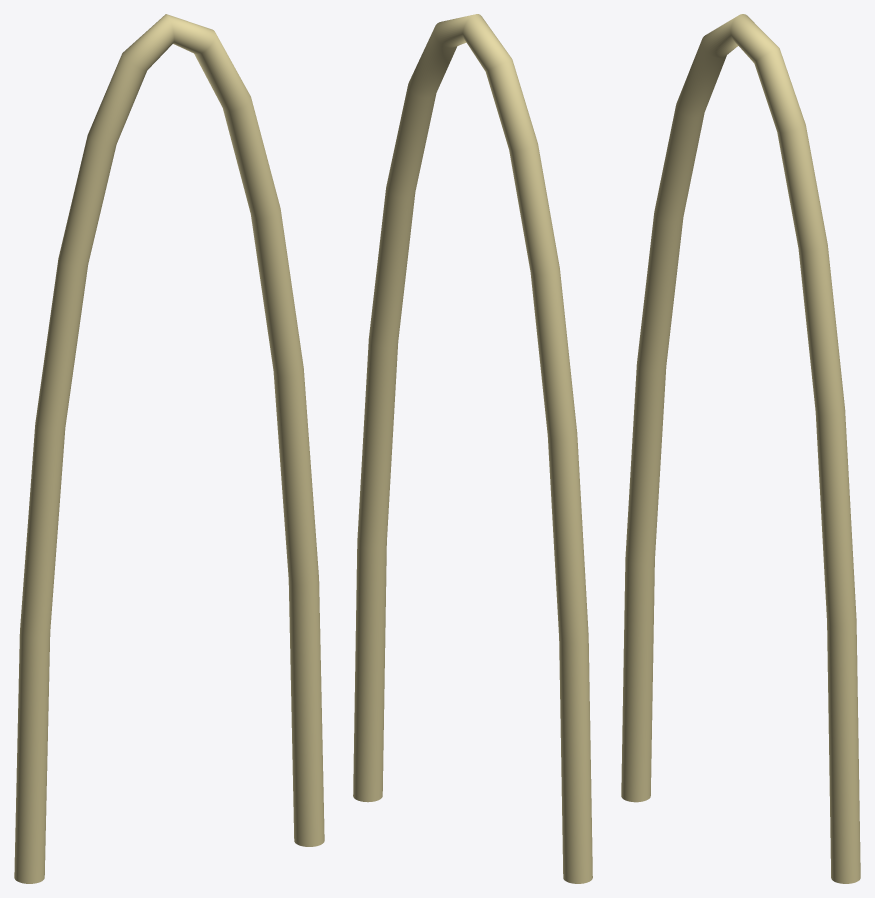
The model's file is spike3.gltf.
3 views of the same model, side by side, from view 1: azimuth 30°, elevation 25°; view 2: azimuth 150°, elevation 25°; view 3: azimuth 330°, elevation 25° (orthographic). The views are drawn at different scales.
Visible parts, largest first — view 1: spike3; view 2: spike3; view 3: spike3.
Part boxes in pixels (x1,y1,x2,y2): spike3: (14, 14, 324, 883); spike3: (353, 14, 592, 883); spike3: (621, 14, 860, 883).
Size of the model in its own units: 0.3238 by 0.953 by 0.0969.
